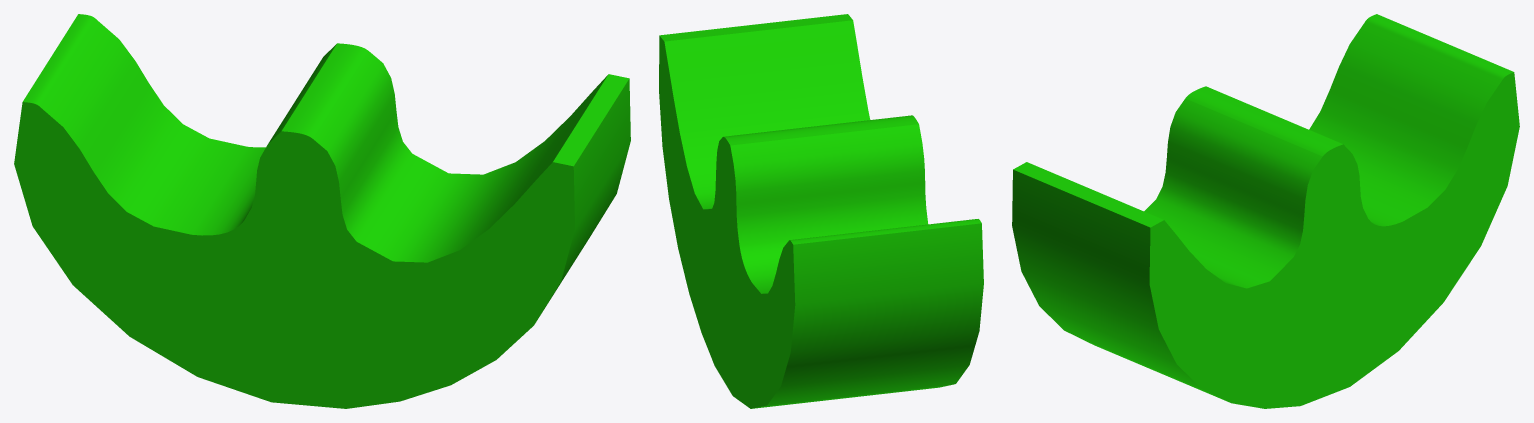
The model's file is 005-Spoon_Wooden_02.FBX.
3 renders of one model, left to right at view 1: azimuth 30°, elevation 25°; view 2: azimuth 150°, elevation 25°; view 3: azimuth 270°, elevation 25°, orthographic. The views are drawn at different scales.
Visible parts, largest first — view 1: 005-Spoon_Wooden_02; view 2: 005-Spoon_Wooden_02; view 3: 005-Spoon_Wooden_02.
Boxes of the visible parts, box(x1,y1,x2,y2) form: 005-Spoon_Wooden_02: box(14, 14, 630, 408); 005-Spoon_Wooden_02: box(659, 14, 983, 408); 005-Spoon_Wooden_02: box(1012, 14, 1519, 408).
Size of the model in its own units: 49.99 by 26.69 by 49.99.
